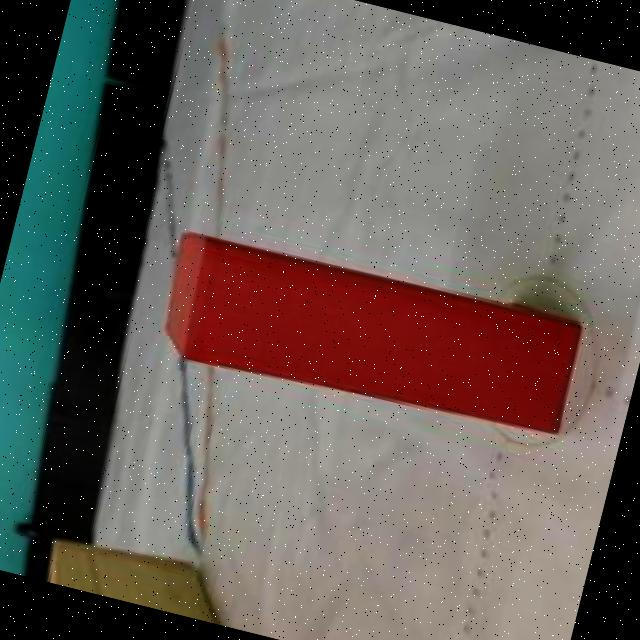redbox: (150, 221, 588, 452)
